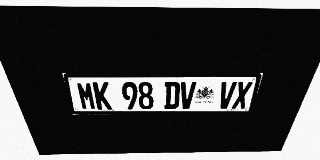8: (137, 82, 153, 109)
9: (121, 82, 138, 109)
D: (164, 82, 180, 109)
K: (92, 82, 112, 110)
M: (76, 82, 97, 110)
V: (217, 81, 237, 109), (179, 82, 196, 109)
X: (231, 81, 253, 108)
